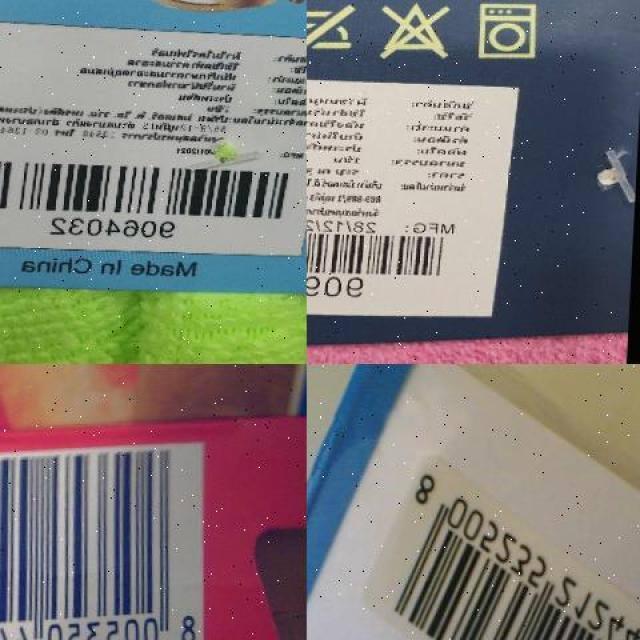Barcode: (354, 450, 640, 640), (0, 441, 215, 640), (0, 149, 307, 236), (307, 221, 460, 296)
